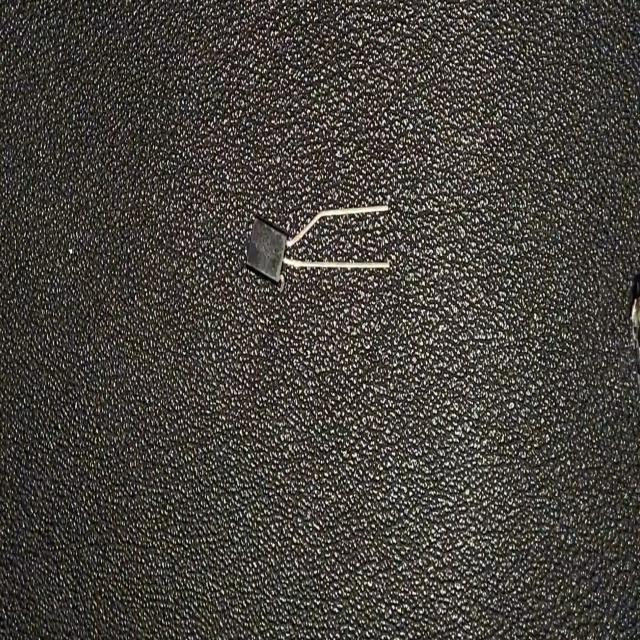missing-leg: (242, 200, 391, 298)
